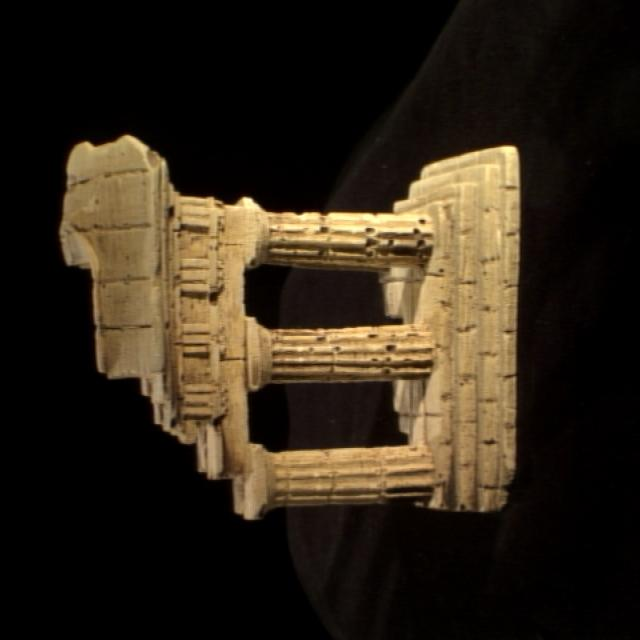Instance-Segmentation: (60, 136, 520, 517)
